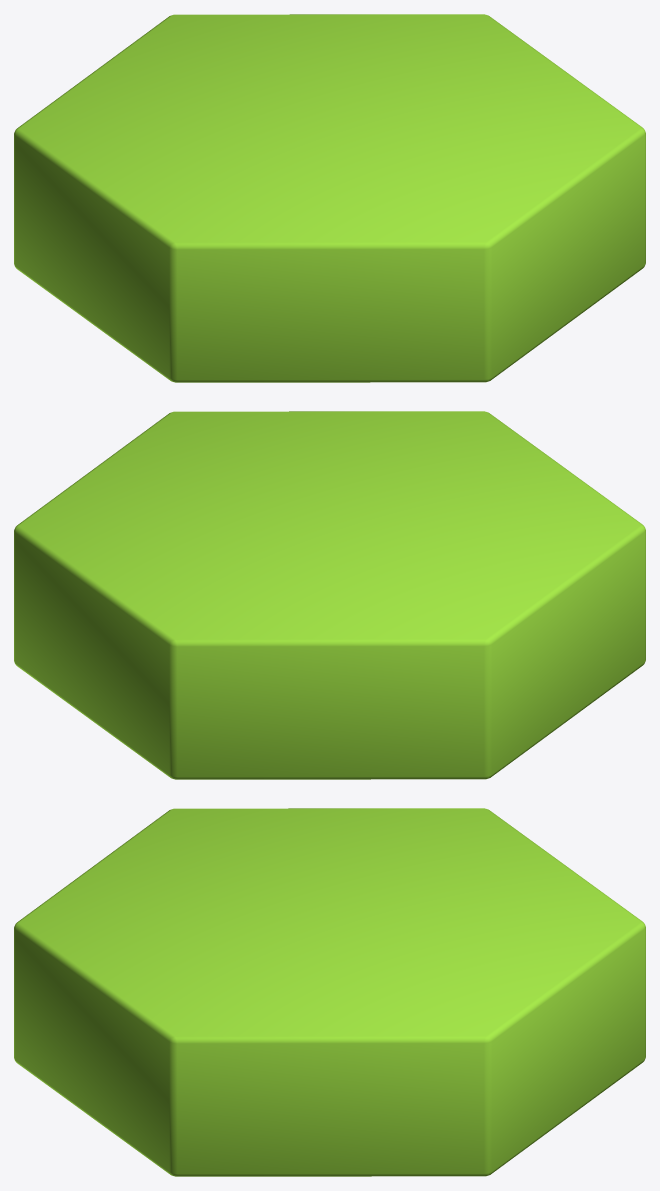
File: baseTile.fbx
3 renders of one model, top to bottom at view 1: azimuth 30°, elevation 25°; view 2: azimuth 150°, elevation 25°; view 3: azimuth 270°, elevation 25°, orthographic.
Parts seen in each view (by area): view 1: Cylinder.258; view 2: Cylinder.258; view 3: Cylinder.258.
Part boxes in pixels (x1,y1,x2,y2): Cylinder.258: [14, 14, 645, 382]; Cylinder.258: [14, 411, 645, 779]; Cylinder.258: [14, 808, 645, 1176].
Bounding box in the file's own units: 1.01 × 0.2828 × 1.16.
